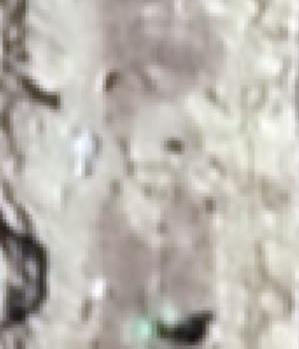cotton: (136, 317, 167, 338)
